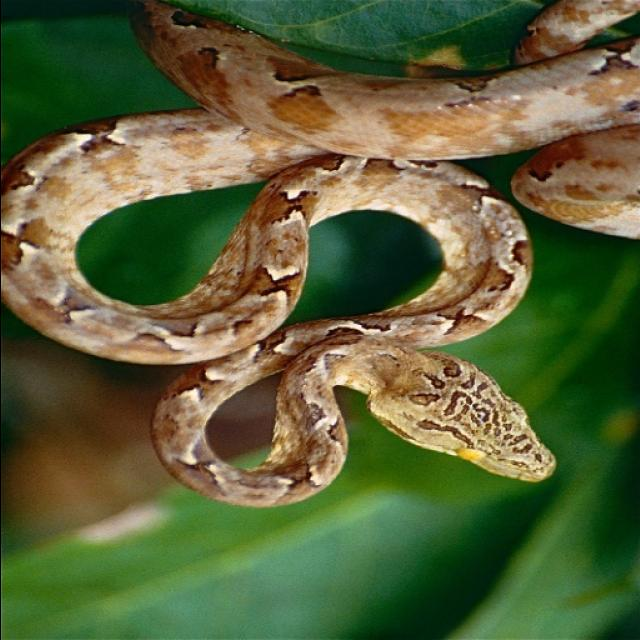snake: (0, 0, 640, 542)
